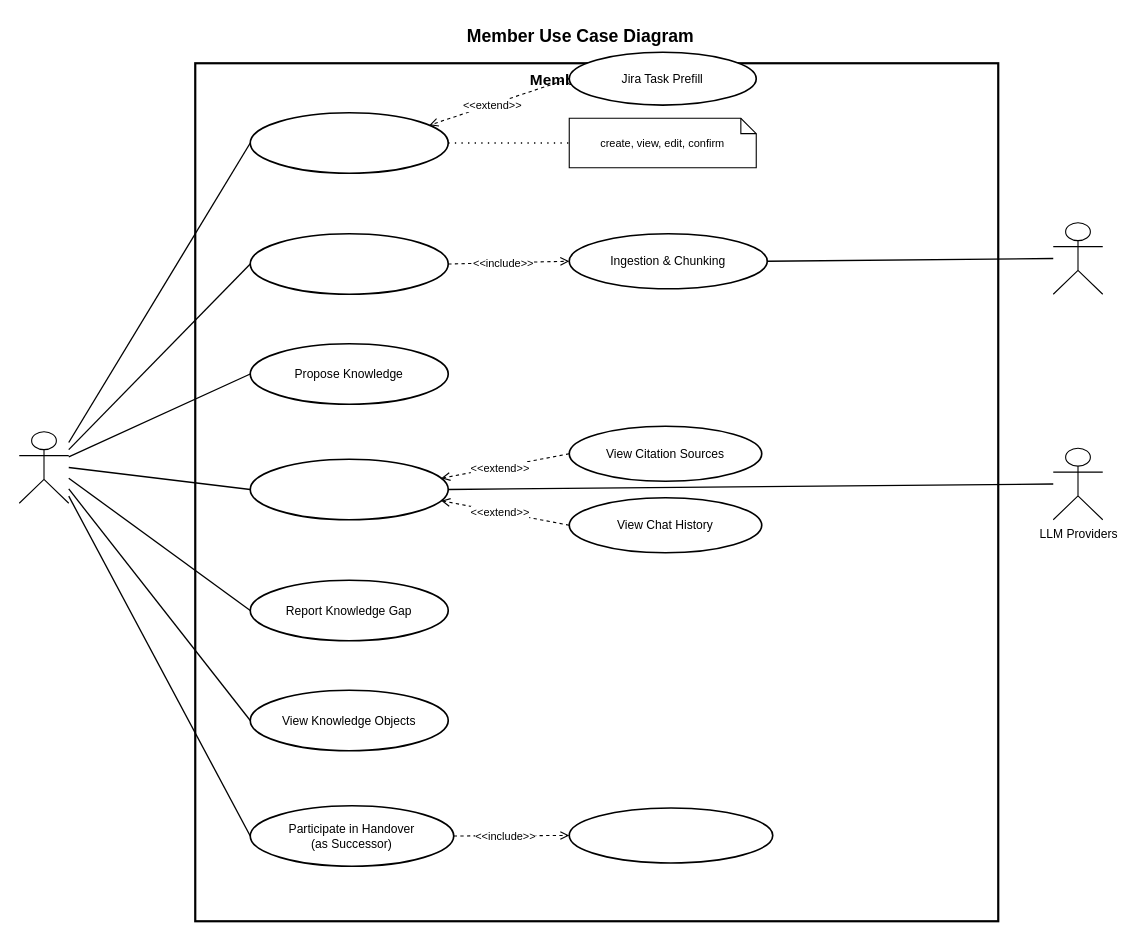
Some shapes in this 1136 by 941 pixel diagram are drawn without their labels. The shapes that lost their labels are listed below. From the top down, each one's centre as x and y in pixels, then its label:
At (349,142): "Manage Work Notes".
At (349,263): "Upload Documents".
At (1077,258): "Cloudflare R2".
At (43,467): "Member".
At (349,489): "Ask AI Assistant (with Citations)".
At (670,835): "Track Learning Progress".
